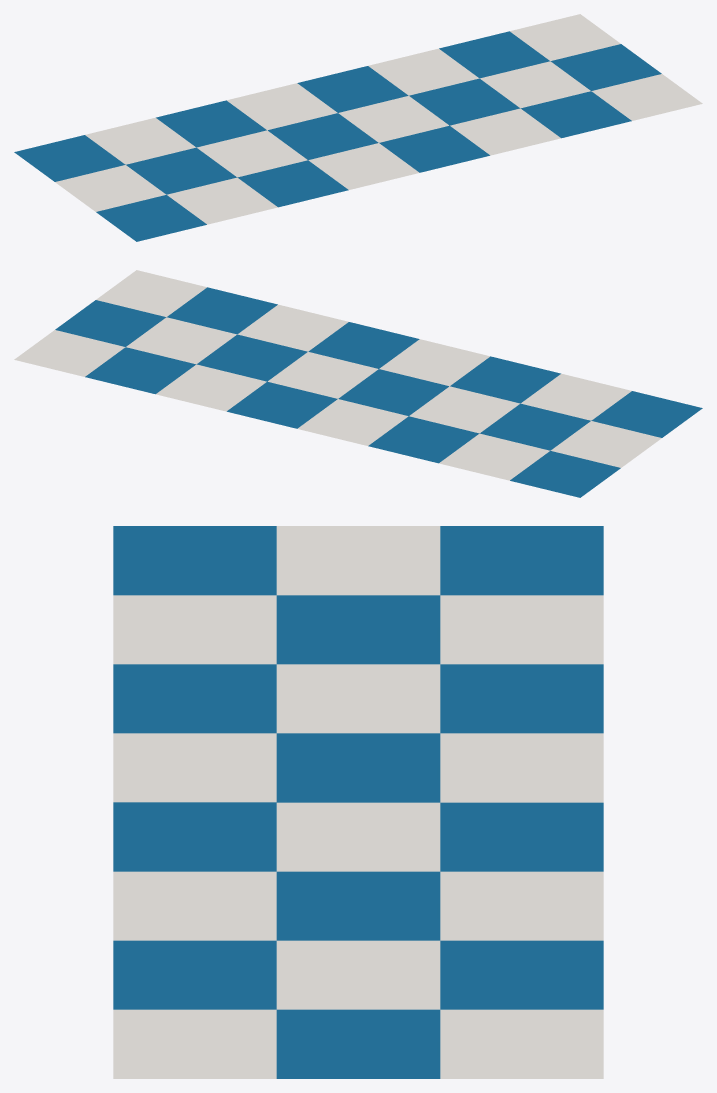
Rendered from CheckPoint01.FBX.
3 views of the same model, one above another, from view 1: azimuth 30°, elevation 25°; view 2: azimuth 150°, elevation 25°; view 3: azimuth 270°, elevation 25° (orthographic). The views are drawn at different scales.
Visible parts, largest first — view 1: CheckPoint01; view 2: CheckPoint01; view 3: CheckPoint01.
Part boxes in pixels (bbox=[...]): CheckPoint01: bbox=[14, 14, 702, 241]; CheckPoint01: bbox=[14, 270, 702, 497]; CheckPoint01: bbox=[113, 526, 603, 1078].
Bounding box in the file's own units: 394 × 5.72e-06 × 148.
